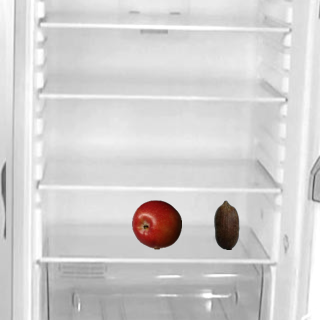Apple Braeburn: (131, 199, 181, 249)
Nut Pecan: (201, 199, 251, 249)
